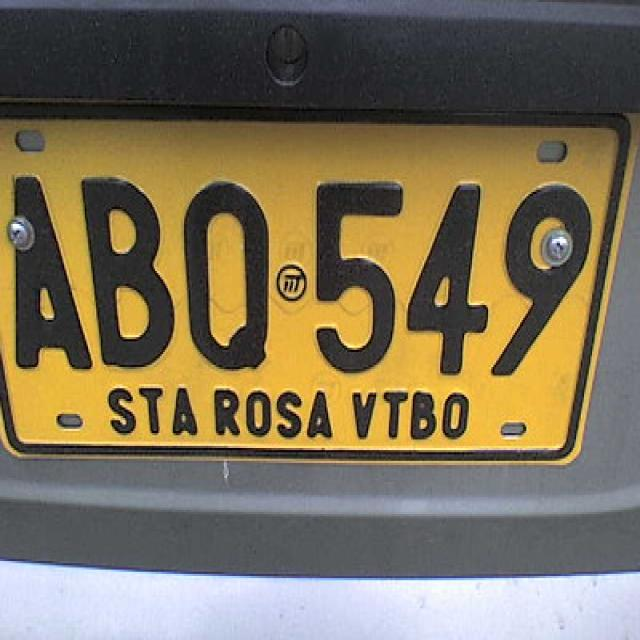placa_carro: (2, 82, 634, 486)
